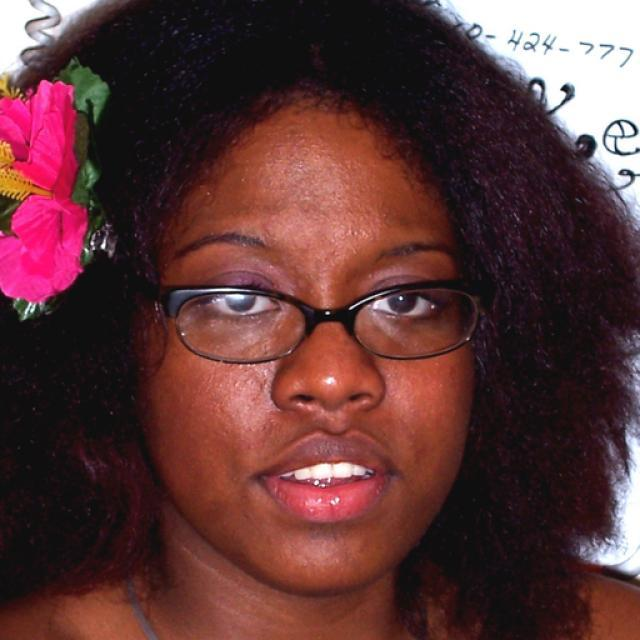disgust: (142, 80, 482, 592)
